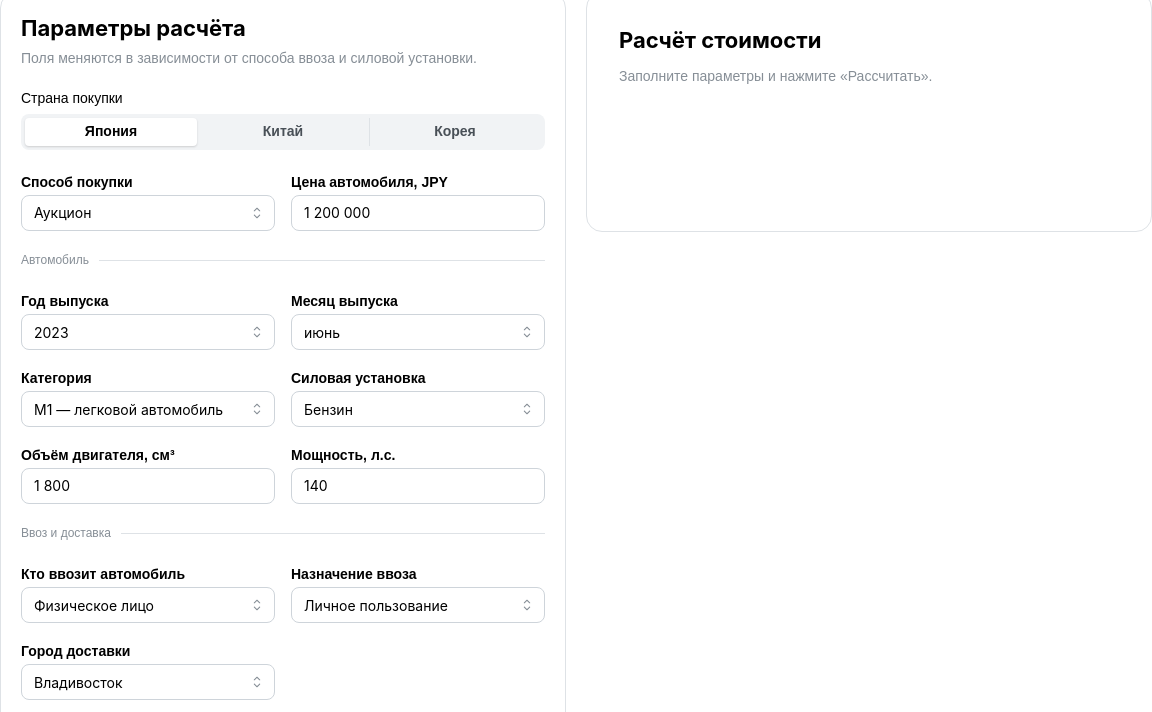
Test: changes the currency with the country and sends the selected inputs to the calculator API
The width and height of the screenshot is (1152, 712).
Click the radio button labelled "Китай" at {"x": 283, "y": 131}, box [263, 123, 303, 139]
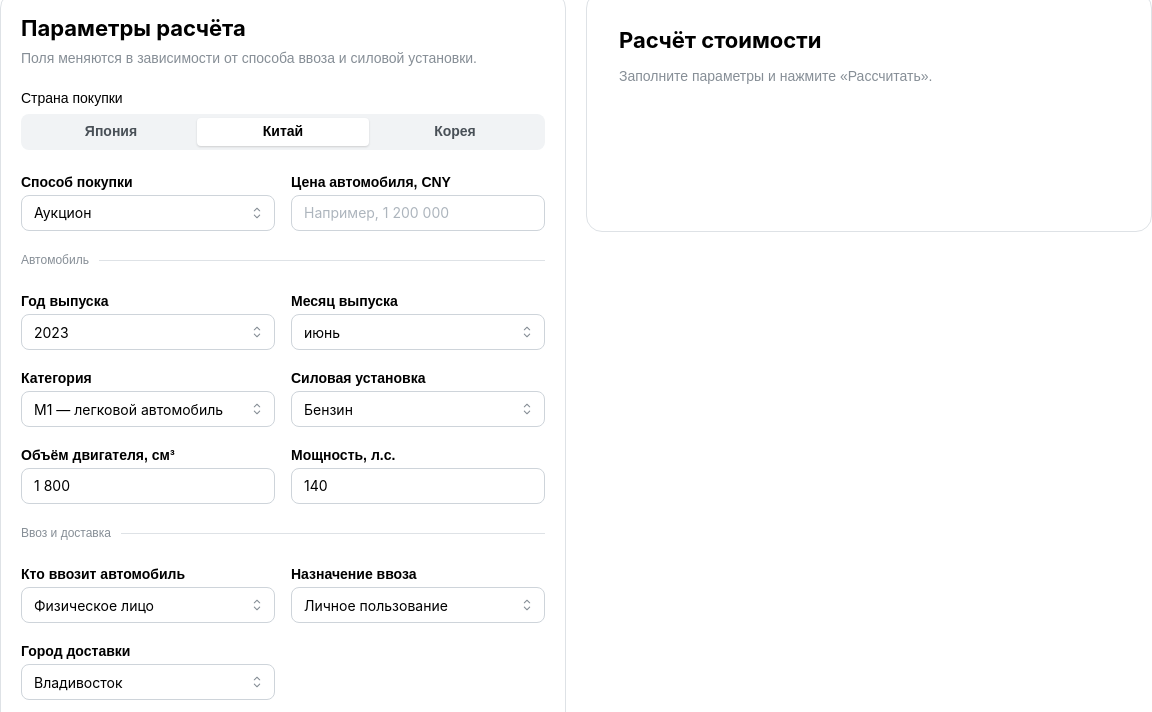
Expected: the field labelled "Цена автомобиля, CNY" is empty
Type "100000" into the field labelled "Цена автомобиля, CNY" at {"x": 418, "y": 213}, box [291, 195, 545, 231]
(page scrolled)
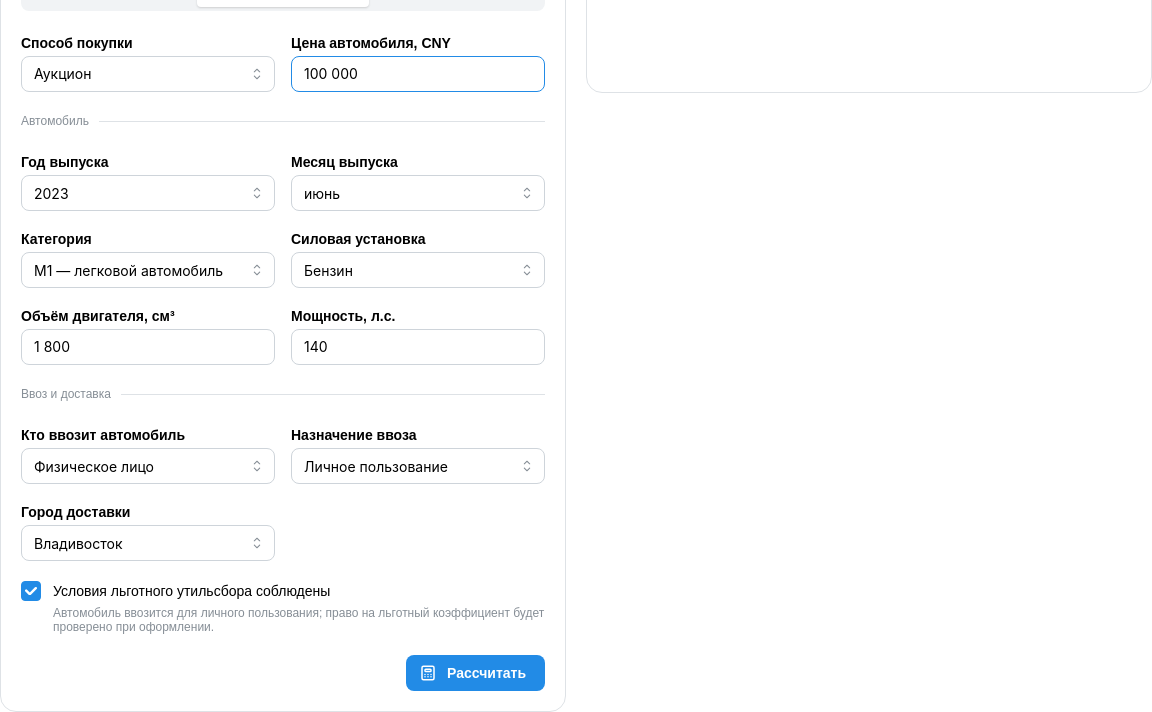
Click the button "Рассчитать" at {"x": 476, "y": 673}, box [406, 655, 545, 691]
(page scrolled)
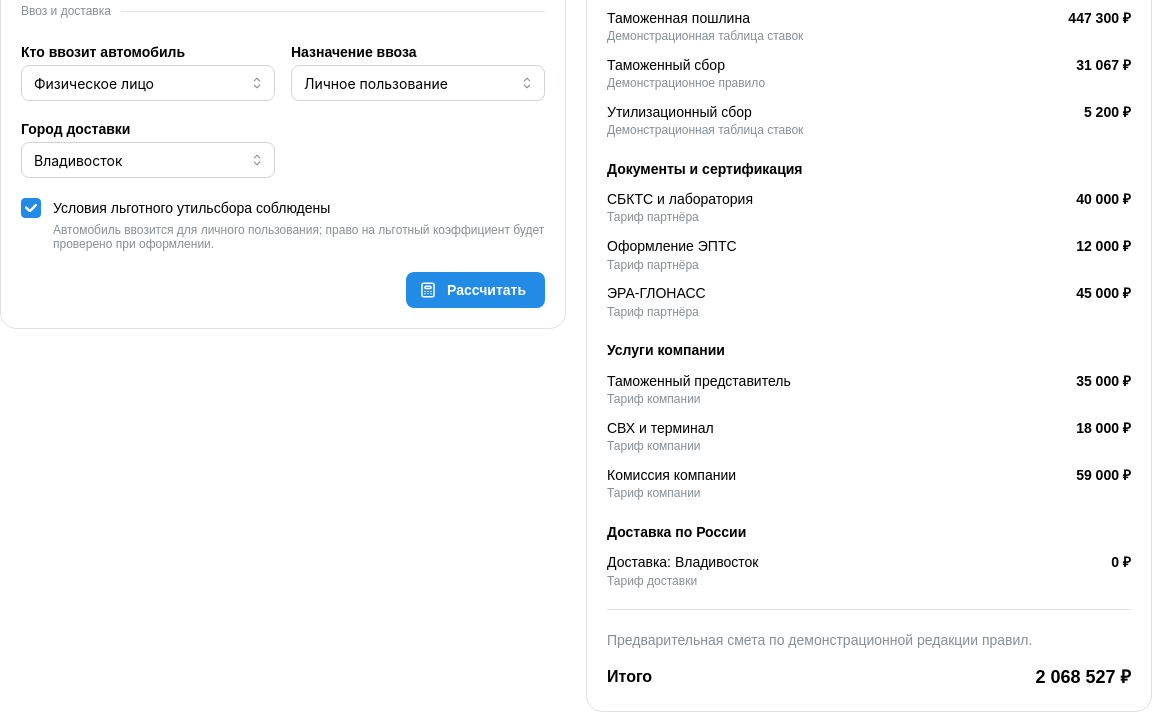
Expected: the text "Итого" is shown, [607, 665, 652, 690]
